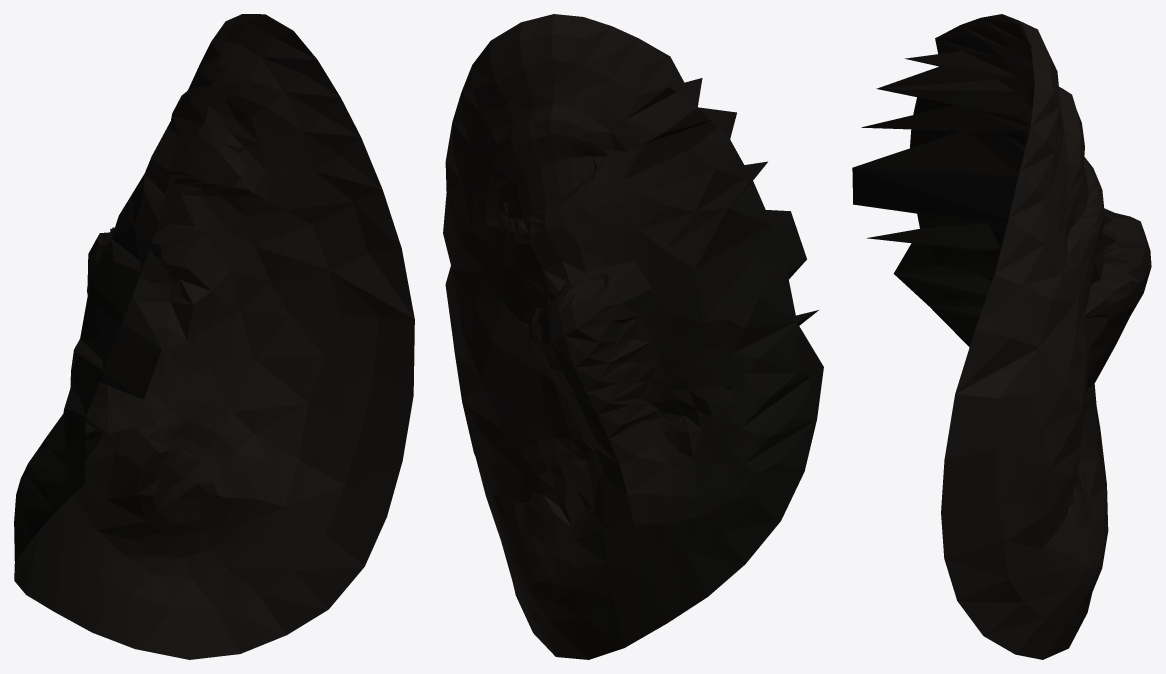
Rendered from Screenshot_2024-09-07_214030.obj.
The picture shows the model from 3 angles, left to right: view 1: azimuth 30°, elevation 25°; view 2: azimuth 150°, elevation 25°; view 3: azimuth 270°, elevation 25°; orthographic projection. The views are drawn at different scales.
Bounding box in the file's own units: 1.11 × 1.85 × 0.7832.
Materials: 1 (1 with a texture image).
